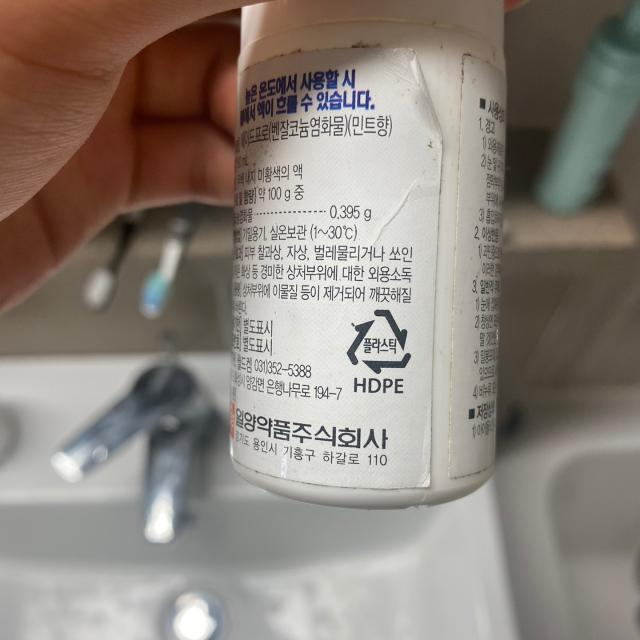Plastic: (345, 305, 414, 375)
